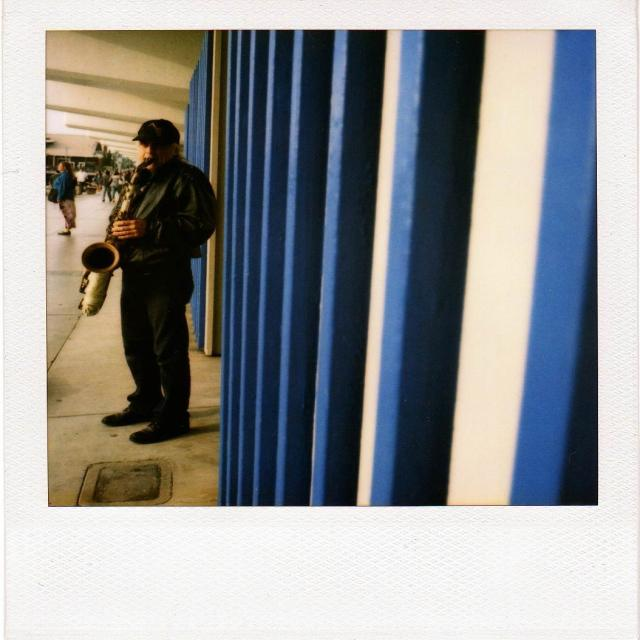saxophone: (78, 158, 160, 324)
